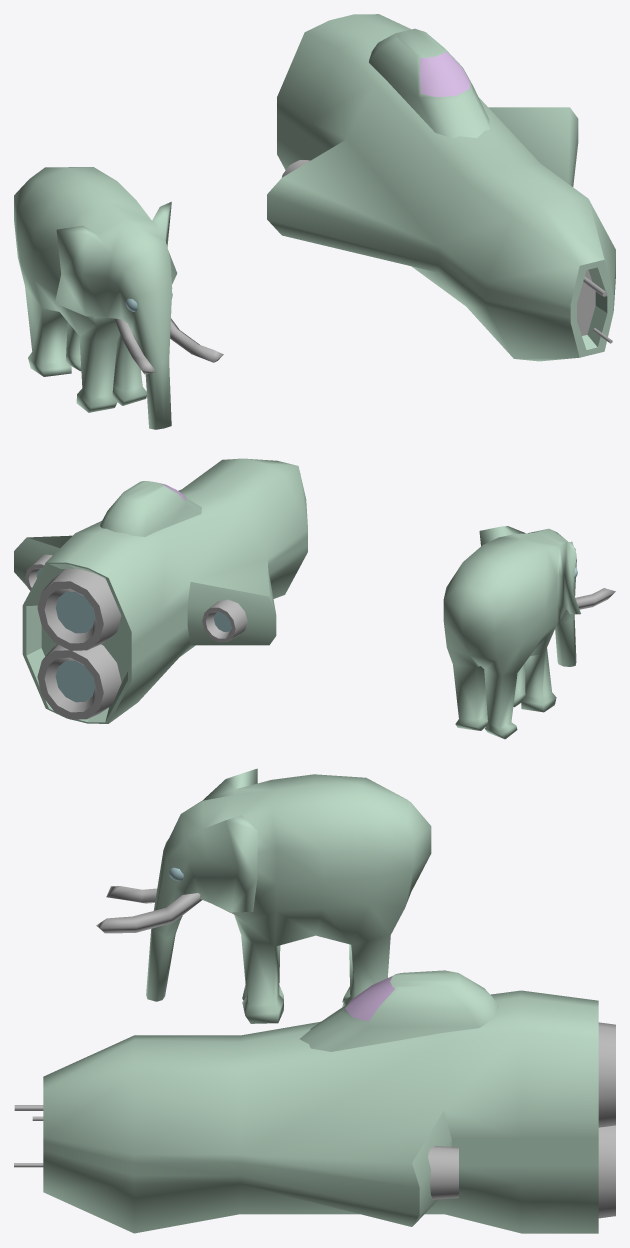
File: NameGeneratorObjects.fbx
The picture shows the model from 3 angles, top to bottom: view 1: azimuth 30°, elevation 25°; view 2: azimuth 150°, elevation 25°; view 3: azimuth 270°, elevation 25°; orthographic projection. The views are drawn at different scales.
Visible parts, largest first — view 1: ship01.001, elephant01.001; view 2: ship01.001, elephant01.001; view 3: ship01.001, elephant01.001.
Part boxes in pixels (x1,y1,x2,y2): ship01.001: [267, 14, 615, 361]; elephant01.001: [14, 167, 223, 429]; ship01.001: [14, 458, 307, 723]; elephant01.001: [443, 526, 615, 739]; ship01.001: [14, 970, 615, 1233]; elephant01.001: [96, 768, 431, 1023].
Size of the model in its own units: 53.96 by 18.97 by 42.36.
